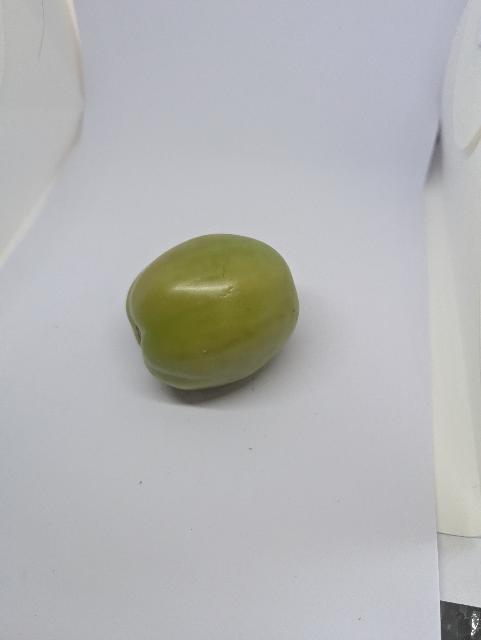green: (119, 217, 304, 398)
